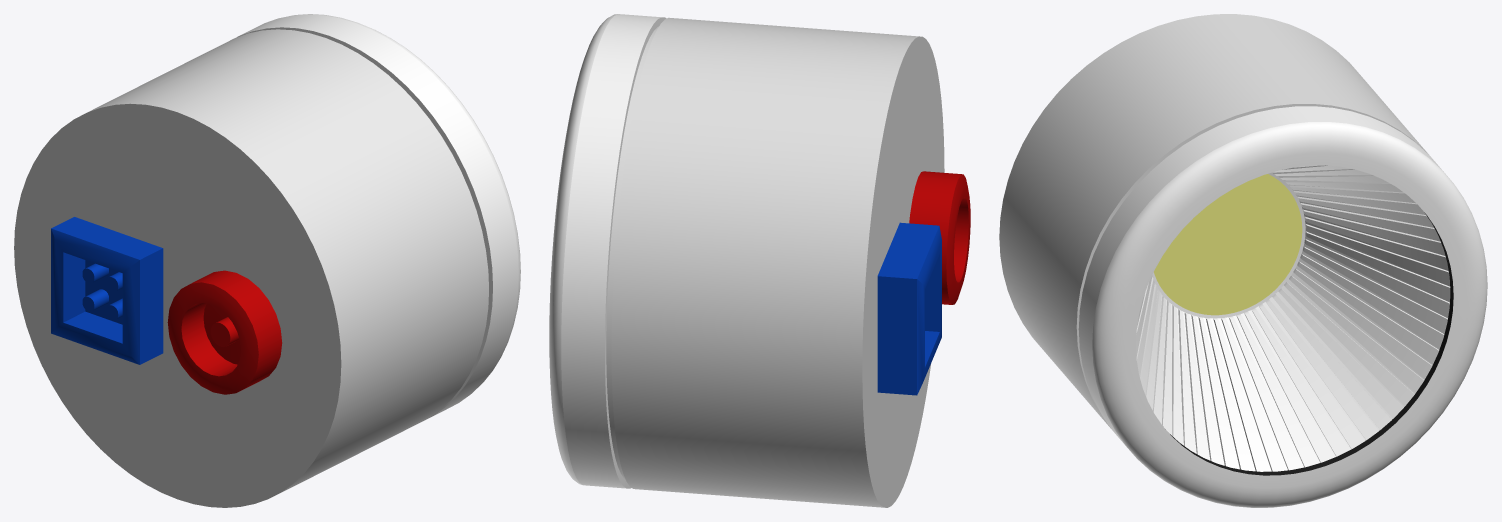
Rendered from SpotLight.gltf.
3 views of the same model, side by side, from view 1: azimuth 30°, elevation 25°; view 2: azimuth 150°, elevation 25°; view 3: azimuth 270°, elevation 25° (orthographic). The views are drawn at different scales.
Visible parts, largest first — view 1: base; view 2: base; view 3: base.
Part boxes in pixels (box(x1,y1,x2,y2)): base: box(14, 14, 520, 507); base: box(549, 14, 970, 507); base: box(999, 14, 1487, 507).
Bounding box in the file's own units: 0.2167 × 0.22 × 0.2556.
